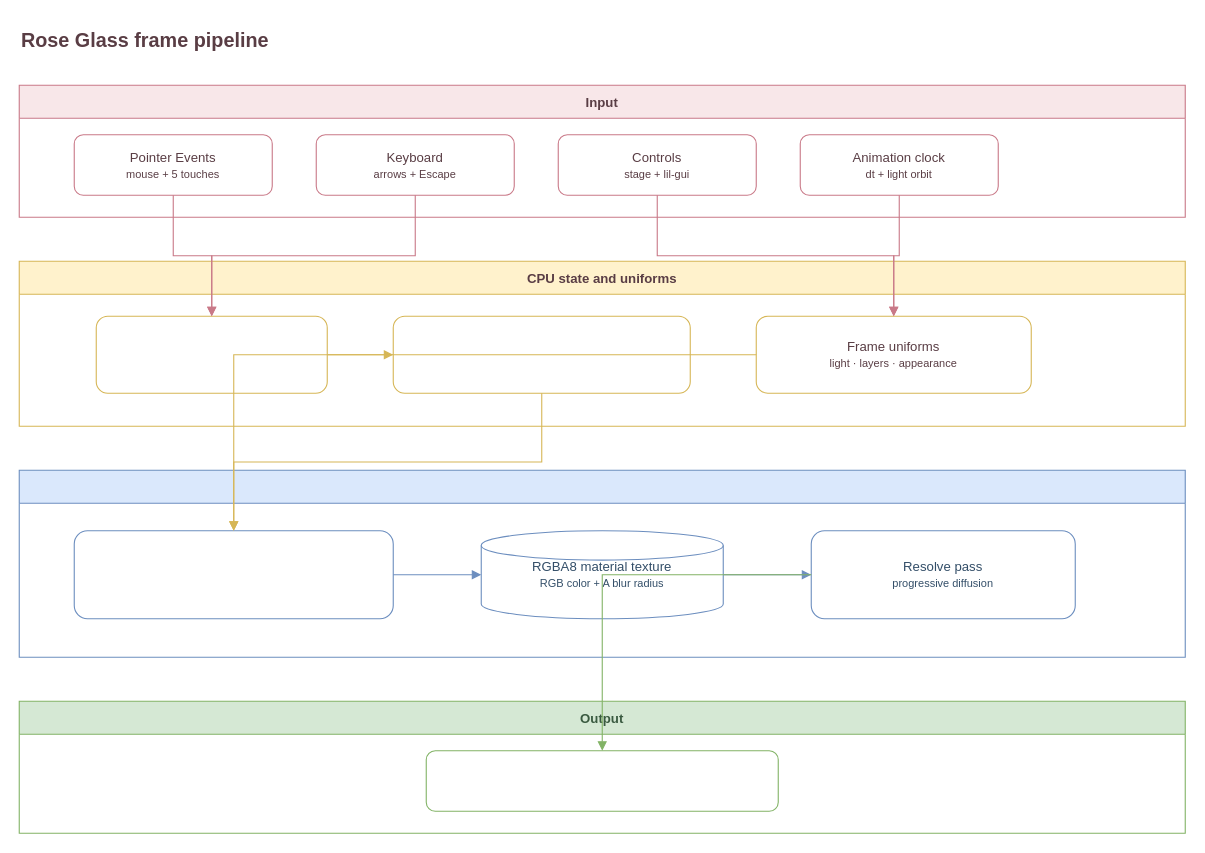
Image size: 1205x853. Some labels were removed from this diagram. Each missing label, with the box of its shape:
Deformation fields center · displacement · indentation: (392, 315, 690, 393)
GlassBodyMotion × 3 offset · rotation · spring: (95, 315, 327, 393)
GPU rendering: (18, 469, 1185, 657)
Material pass inverse deformation → SDF → surface → light: (73, 530, 393, 619)
Native-resolution canvas 9:16 artwork + shared stepper: (425, 750, 778, 811)
